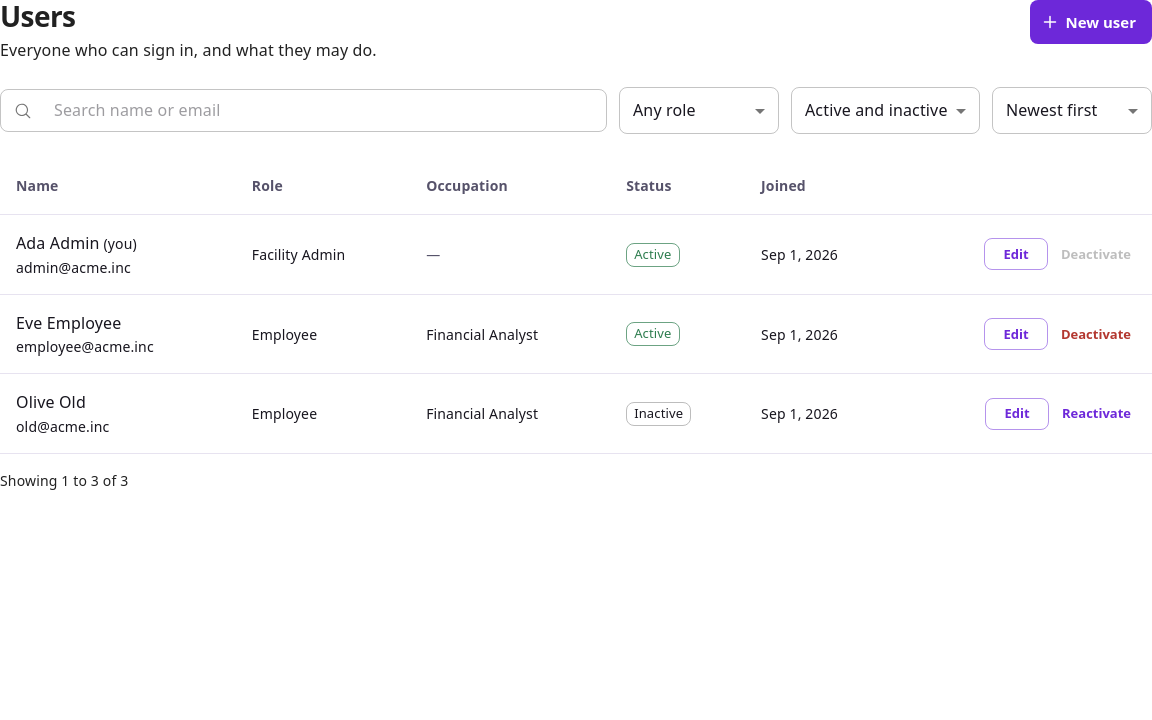
Test: UsersPage › locks role and active state when an admin edits themselves
Check: the text "Showing 1 to 3 of 3" is shown, box [0, 470, 128, 491]
Step 1. Click the button "Edit" in the row of "Ada Admin" → click(1016, 254), box [984, 238, 1048, 270]
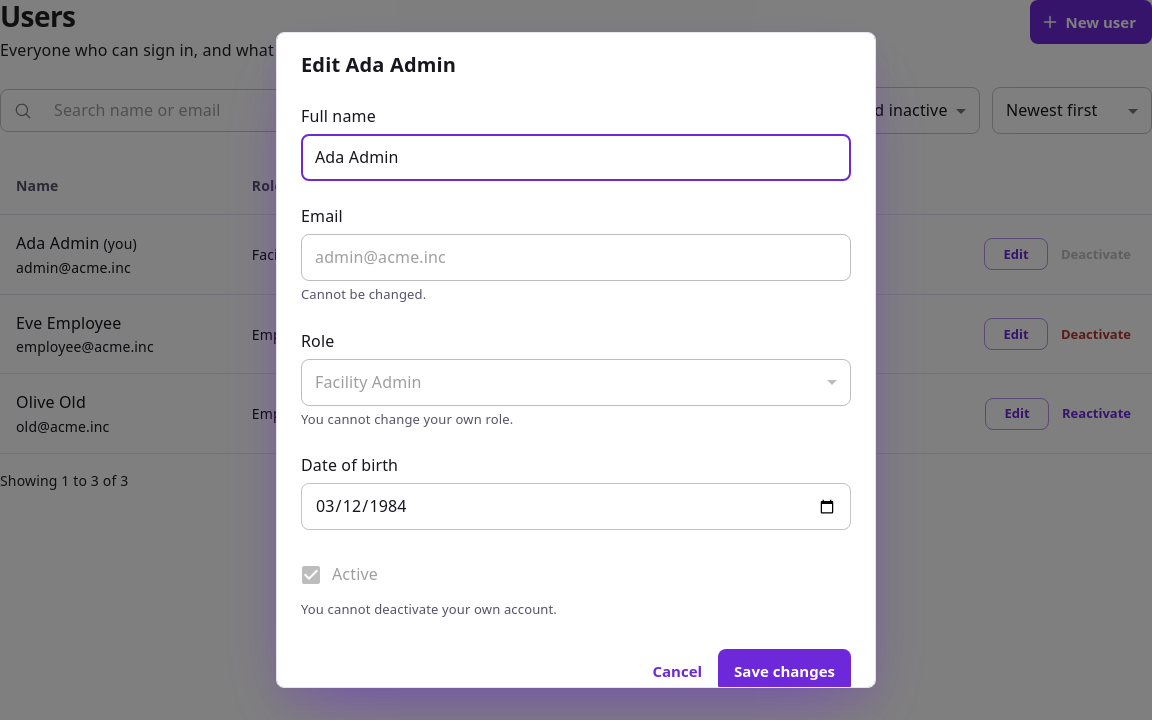
Check: the dropdown labelled "Role" is disabled, box [301, 359, 851, 406]
Check: the checkbox labelled "Active" is disabled, box [299, 563, 378, 587]
Check: the text "You cannot change your own role." is shown, box [301, 410, 513, 428]
